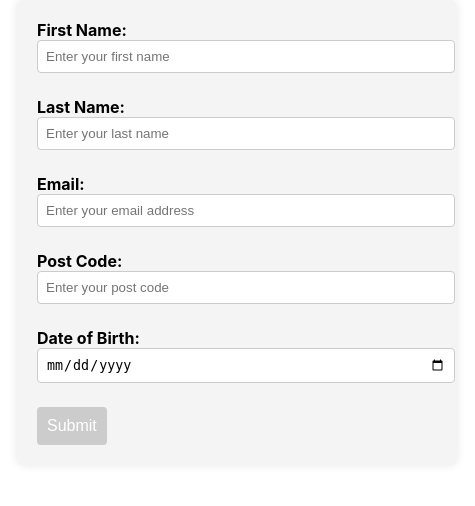
Test: handleSubmission displays error message and alert for invalid postal code
Type "John" into the field labelled "First Name:".
click(246, 56); type("John")  # box [37,40,455,73]
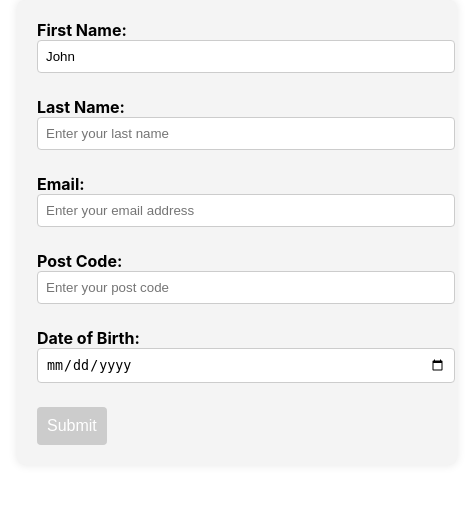
Type "Doe" into the field labelled "Last Name:".
click(246, 134); type("Doe")  # box [37,117,455,150]
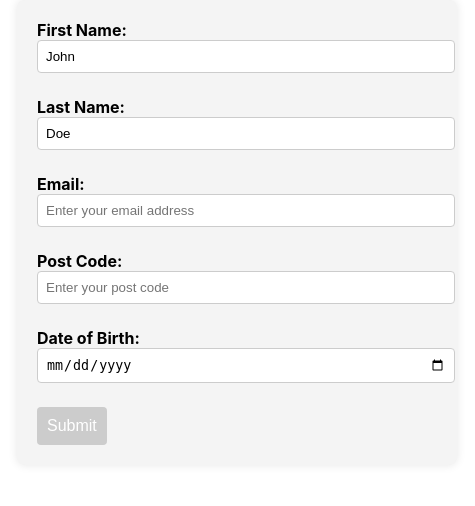
Type "test@test.com" into the field labelled "Email:".
click(246, 210); type("test@test.com")  # box [37,194,455,227]
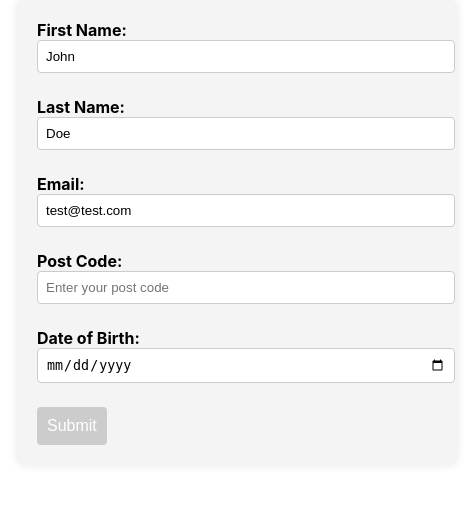
Type "123456" into the field labelled "Post Code:".
click(246, 288); type("123456")  # box [37,271,455,304]
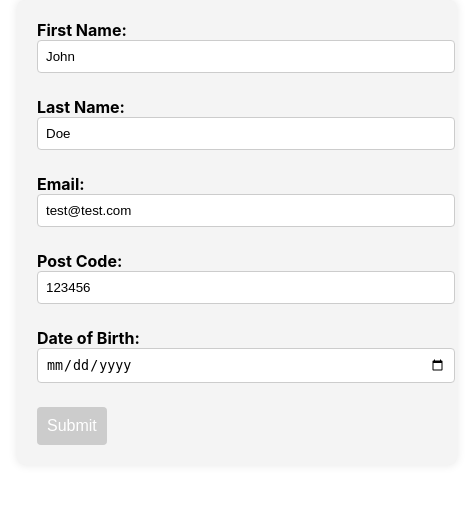
Type "1990-01-01" into the date field labelled "Date of Birth:".
click(246, 366); type("1990-01-01")  # box [37,348,455,383]
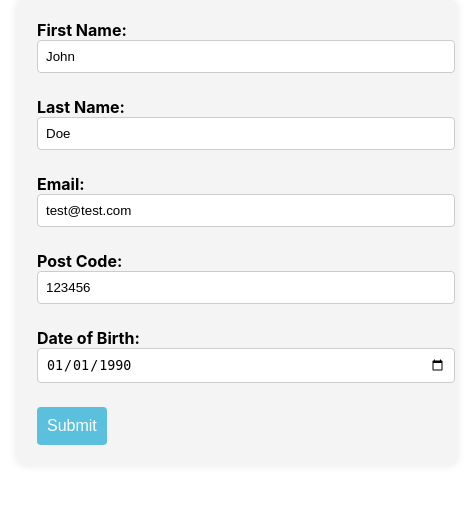
Click the button "Submit".
click(72, 426)  # box [37,407,107,445]
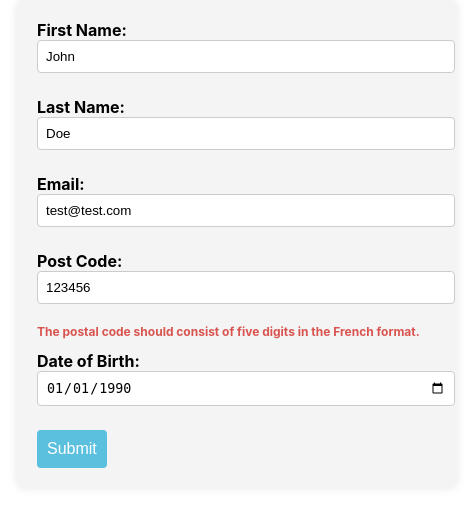
Check: the text with test id "errorPostCode" is shown, box [37,324,437,339]
Check: the text with test id "errorPostCode" reads "The postal code should consist of five digits in the French format.", box [37,324,420,339]
